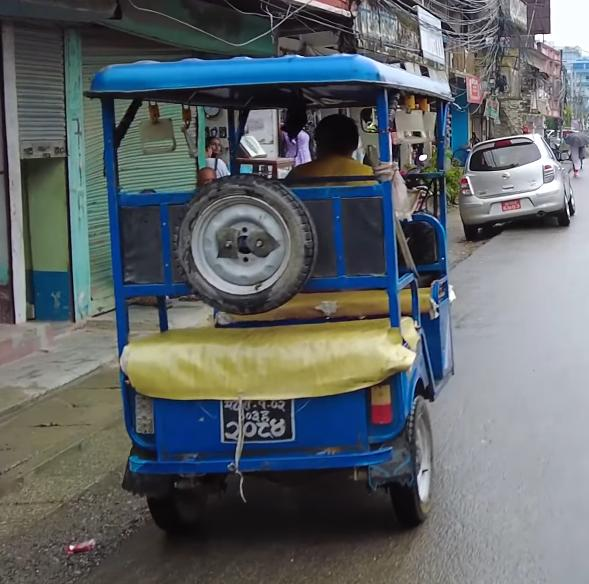car: (459, 131, 577, 238)
e-rickshaw: (78, 44, 472, 538)
